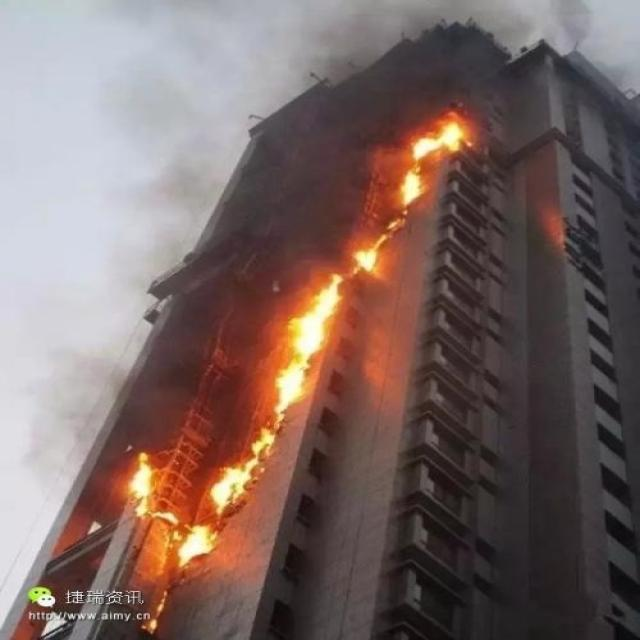Fire: (126, 117, 474, 568), (138, 590, 170, 634)
Smoke: (23, 1, 586, 493)
